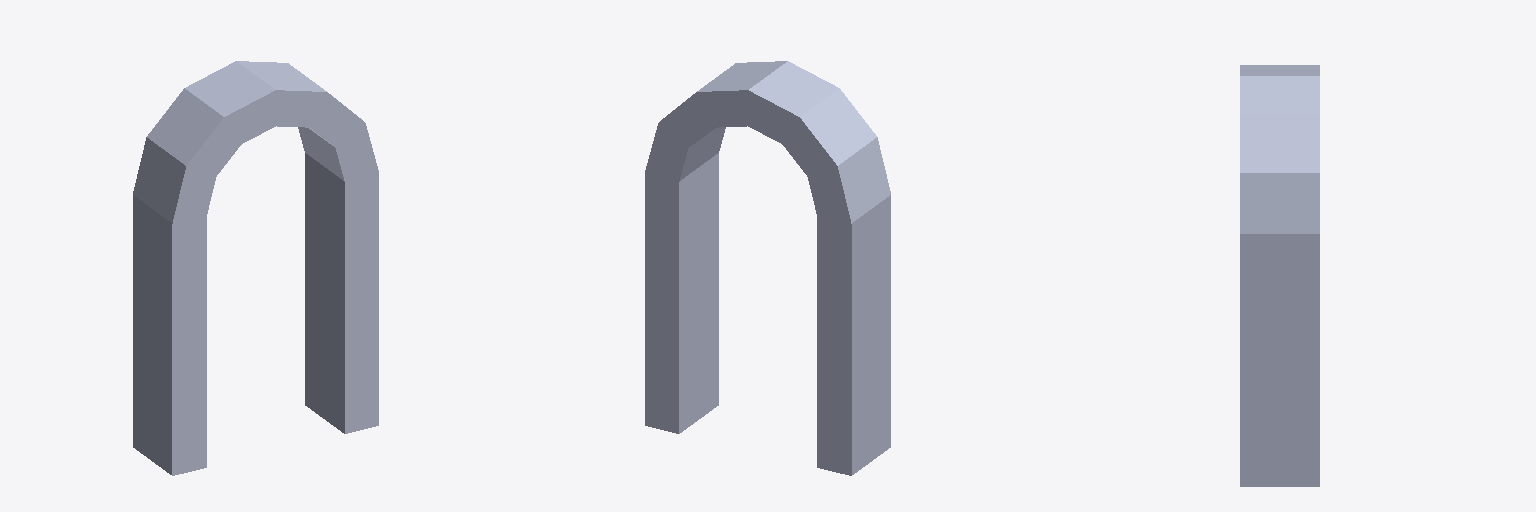
The model's file is doorOpen.obj.
The picture shows the model from 3 angles: view 1: azimuth 30°, elevation 25°; view 2: azimuth 150°, elevation 25°; view 3: azimuth 270°, elevation 25°; orthographic projection.
Visible parts, largest first — view 1: doorOpen; view 2: doorOpen; view 3: doorOpen.
Part boxes in pixels (left/top/right/bottom): doorOpen: left=133, top=61, right=378, bottom=475; doorOpen: left=645, top=61, right=890, bottom=475; doorOpen: left=1240, top=65, right=1319, bottom=486.
Size of the model in its own units: 0.6 by 1 by 0.2.